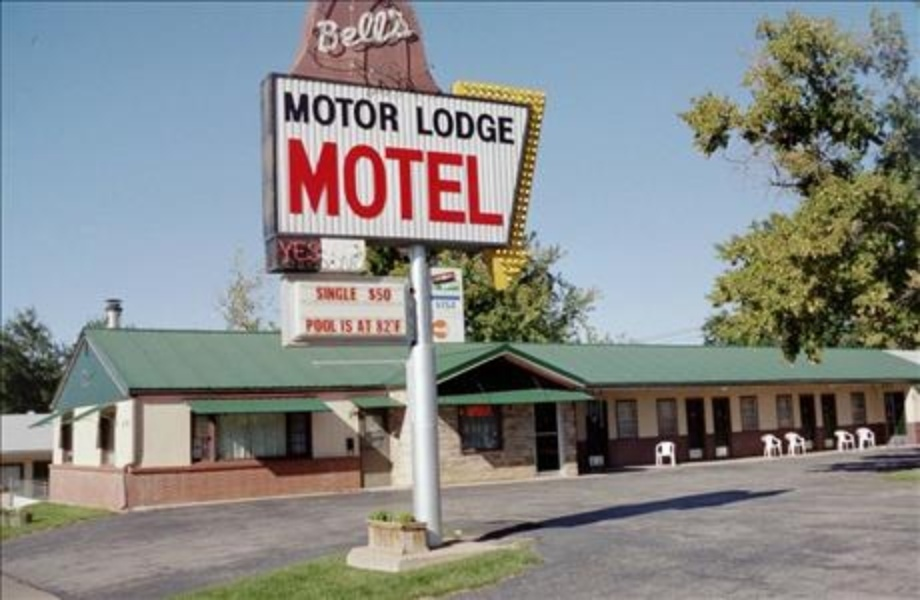text: (289, 137, 304, 227), (305, 137, 320, 227), (321, 137, 336, 227), (337, 137, 352, 227), (353, 137, 368, 227), (369, 137, 384, 227), (385, 137, 400, 227), (401, 137, 416, 227), (417, 137, 432, 227), (433, 137, 448, 227), (449, 137, 464, 227), (465, 137, 480, 227), (481, 137, 496, 227), (497, 137, 511, 227), (401, 5, 417, 55), (321, 5, 336, 55), (337, 5, 352, 55), (353, 5, 368, 55), (369, 5, 384, 55), (385, 5, 400, 55), (289, 89, 304, 133), (305, 89, 320, 133), (321, 89, 336, 133), (337, 89, 352, 133), (353, 89, 368, 133), (369, 89, 384, 133), (385, 89, 400, 133), (417, 105, 432, 147), (433, 105, 448, 147), (449, 105, 464, 147), (465, 105, 480, 147), (481, 105, 496, 147), (497, 105, 512, 147), (305, 237, 321, 265), (289, 237, 304, 265), (275, 237, 288, 265), (281, 89, 288, 133), (321, 283, 336, 303), (337, 283, 352, 303), (285, 137, 288, 227), (369, 285, 384, 303), (321, 319, 337, 335), (385, 319, 401, 335), (315, 5, 320, 55), (353, 319, 368, 335), (369, 319, 384, 335), (307, 319, 320, 335), (513, 105, 517, 147), (353, 283, 361, 303), (341, 319, 352, 333), (385, 285, 393, 303), (315, 283, 320, 303), (401, 89, 403, 133), (415, 105, 416, 147), (367, 285, 368, 303)
